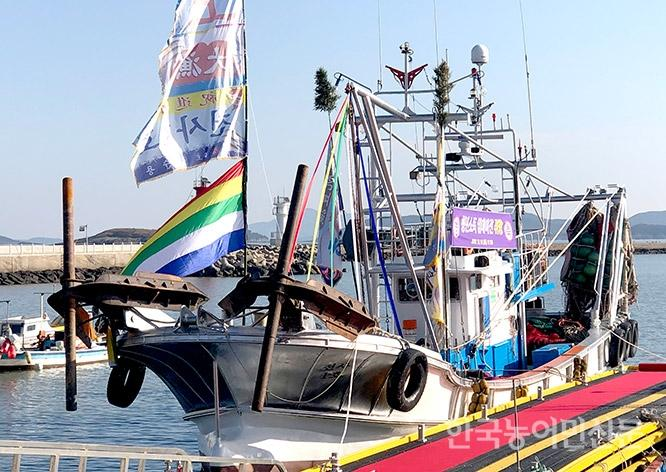Ship: (29, 45, 647, 472)
